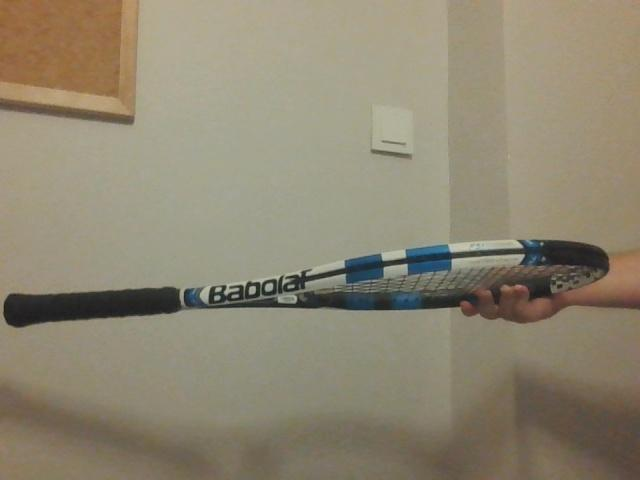Tennis-Racket: (1, 236, 610, 324)
